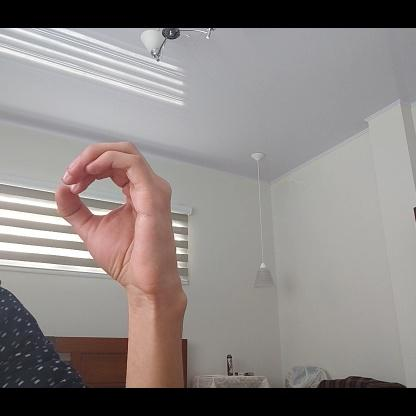O: (55, 139, 184, 305)
